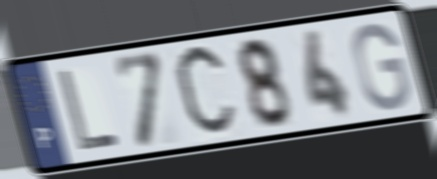4: (305, 26, 353, 121)
7: (116, 48, 164, 151)
8: (239, 35, 294, 131)
C: (171, 38, 240, 144)
G: (349, 20, 413, 114)
L: (55, 67, 123, 155)
